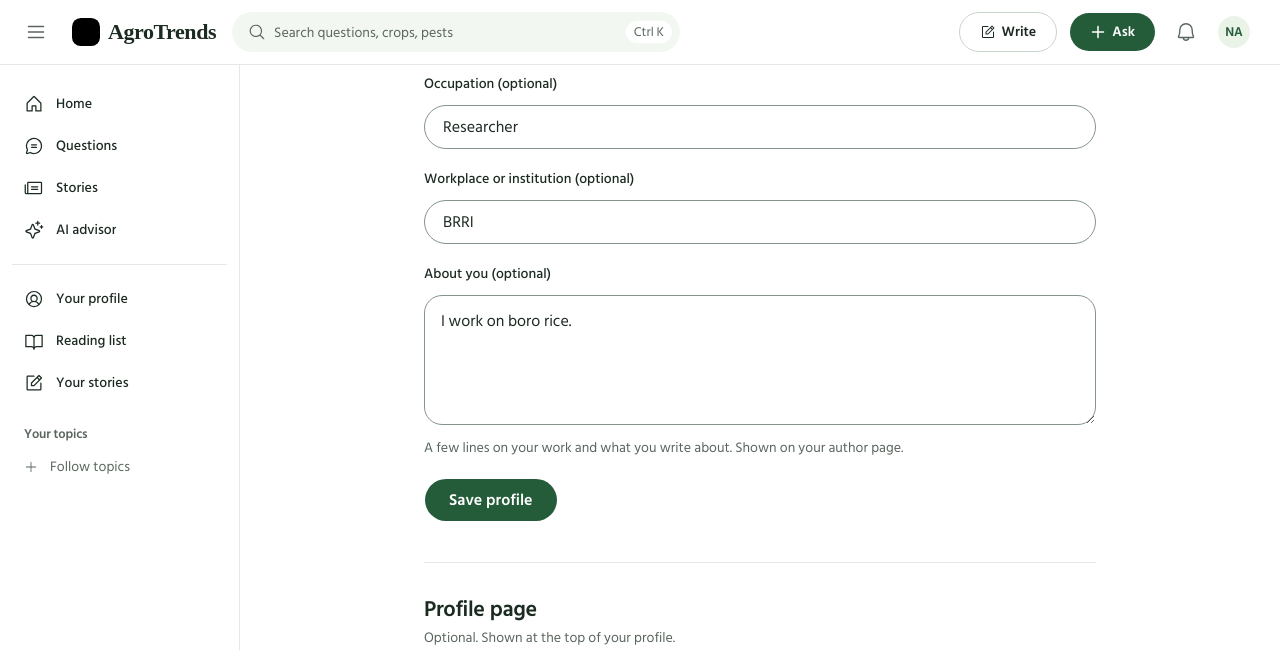
Test: saving sends the whole profile
(page scrolled)
Replace the text in the text box labelled "About you (optional)" with "Boro and aman rice." at (760, 360), box [424,295,1096,425]
(page scrolled)
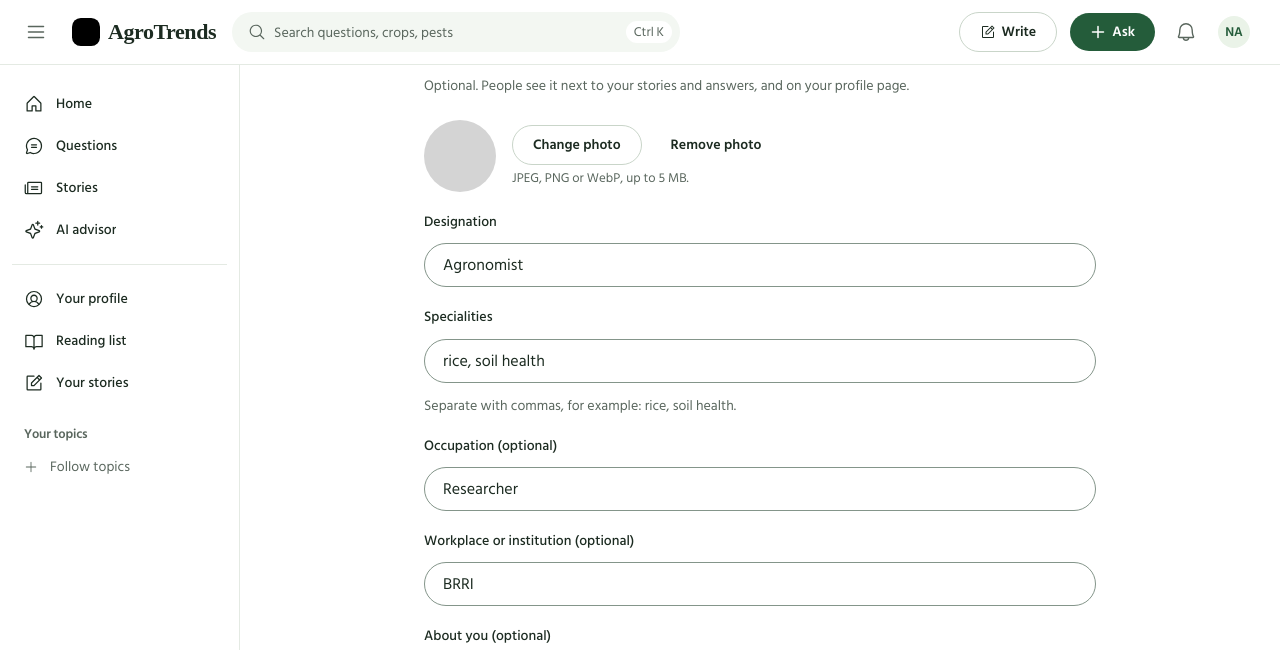
Type ", jute" into the field labelled "Specialities" at (760, 361), box [424,339,1096,383]
(page scrolled)
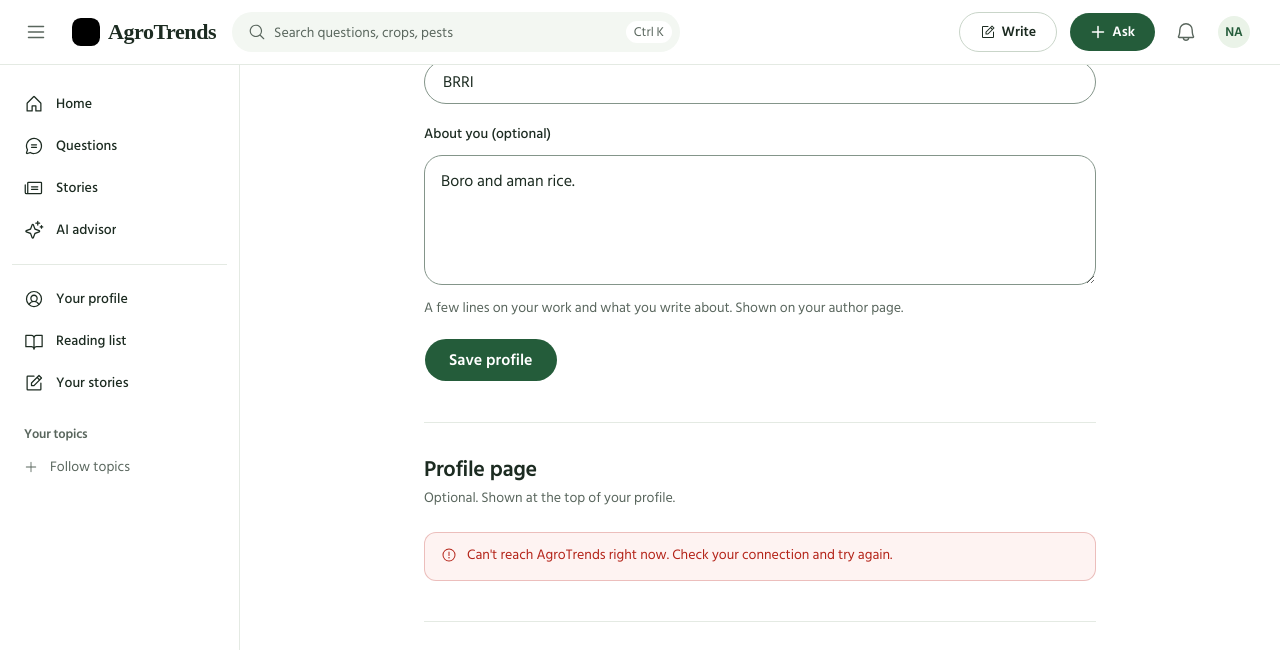
Click the button "Save profile" at (491, 360), box [424,338,558,382]
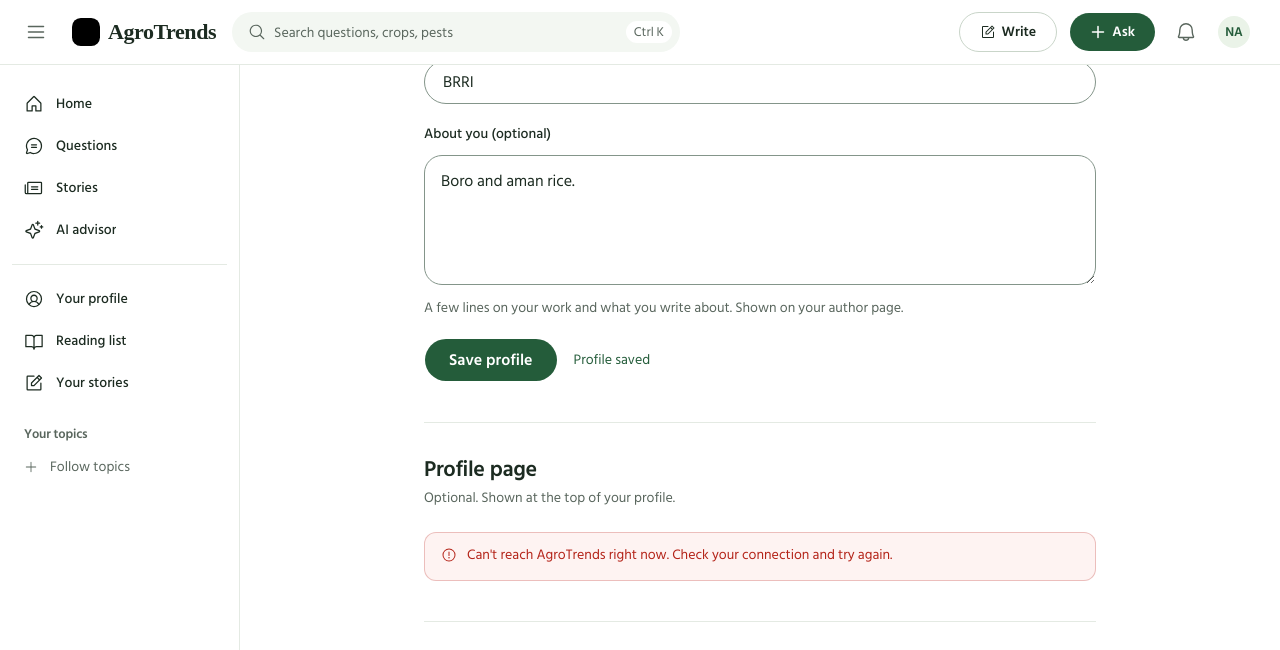
Now the text "Profile saved" is shown, box [574,350,650,370]
